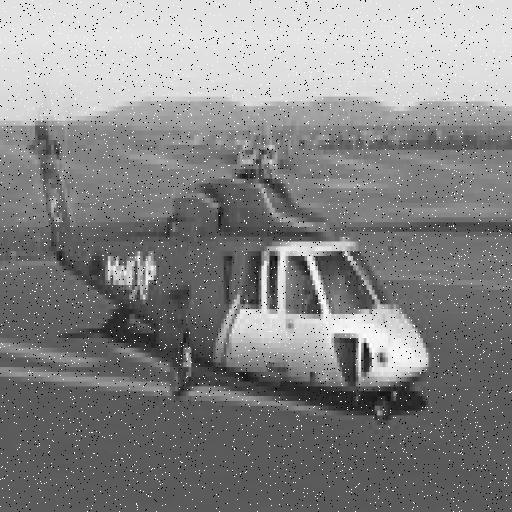helicopter: (31, 112, 435, 421)
